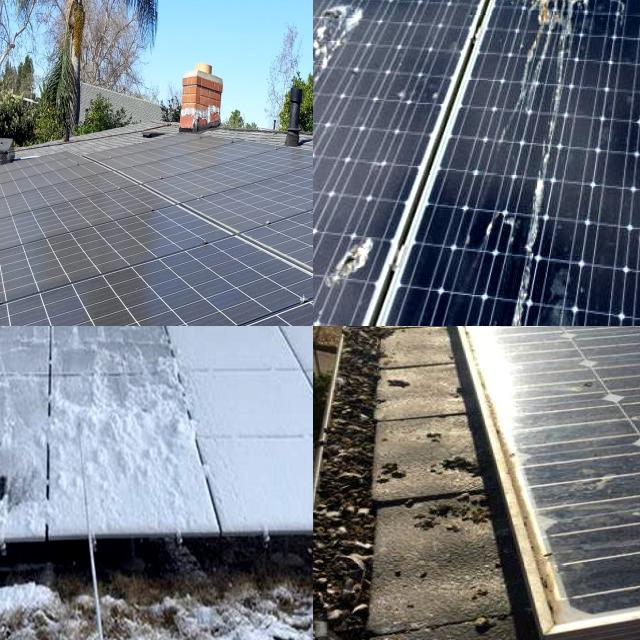bird: (313, 0, 358, 102), (316, 228, 380, 283), (526, 0, 603, 39), (562, 366, 613, 408), (535, 0, 598, 30), (464, 0, 505, 30), (622, 327, 640, 384), (581, 0, 606, 36), (374, 0, 415, 19), (465, 0, 499, 22), (313, 172, 329, 216), (493, 0, 517, 23), (611, 0, 640, 15), (466, 0, 486, 18)
panel: (114, 432, 206, 530), (221, 442, 311, 530), (58, 340, 178, 392), (196, 356, 269, 431), (0, 454, 54, 524), (0, 329, 63, 385), (34, 485, 104, 535), (42, 406, 93, 471), (0, 395, 49, 452), (0, 459, 26, 552), (0, 421, 59, 459), (278, 361, 308, 433), (54, 326, 155, 346), (0, 436, 61, 466), (0, 326, 61, 351), (167, 326, 257, 341), (0, 347, 19, 384), (0, 326, 45, 339), (0, 343, 23, 368), (0, 326, 30, 343)
